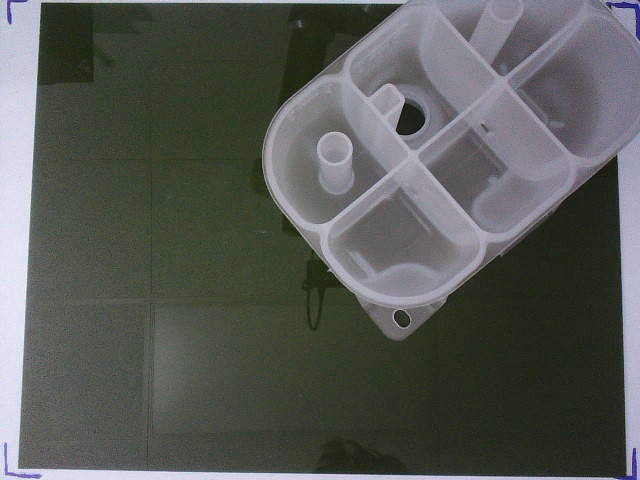reservoir_transparent_Under: (262, 1, 640, 341)
